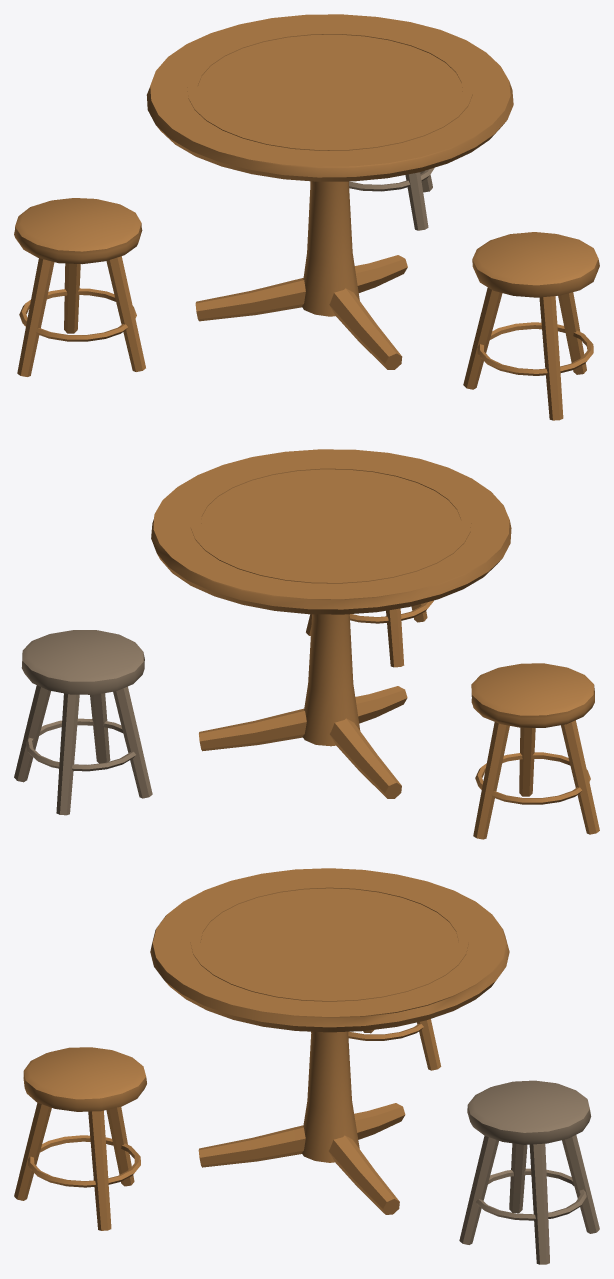
Rendered from nomad_market_stand_decor.fbx.
The picture shows the model from 3 angles, top to bottom: view 1: azimuth 30°, elevation 25°; view 2: azimuth 150°, elevation 25°; view 3: azimuth 270°, elevation 25°; orthographic projection. The views are drawn at different scales.
Parts seen in each view (by area): view 1: C__TavernTable__01; view 2: C__TavernTable__01; view 3: C__TavernTable__01.
Boxes of the visible parts, box(x1,y1,x2,y2) form: C__TavernTable__01: box(14, 14, 599, 420); C__TavernTable__01: box(14, 449, 599, 839); C__TavernTable__01: box(14, 868, 599, 1264).
Bounding box in the file's own units: 357 × 157 × 370.
